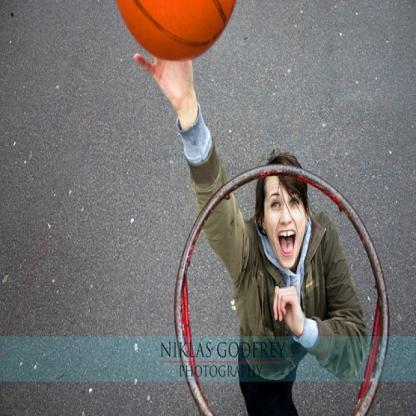basketball: (114, 0, 238, 60)
rim: (171, 166, 391, 415)
